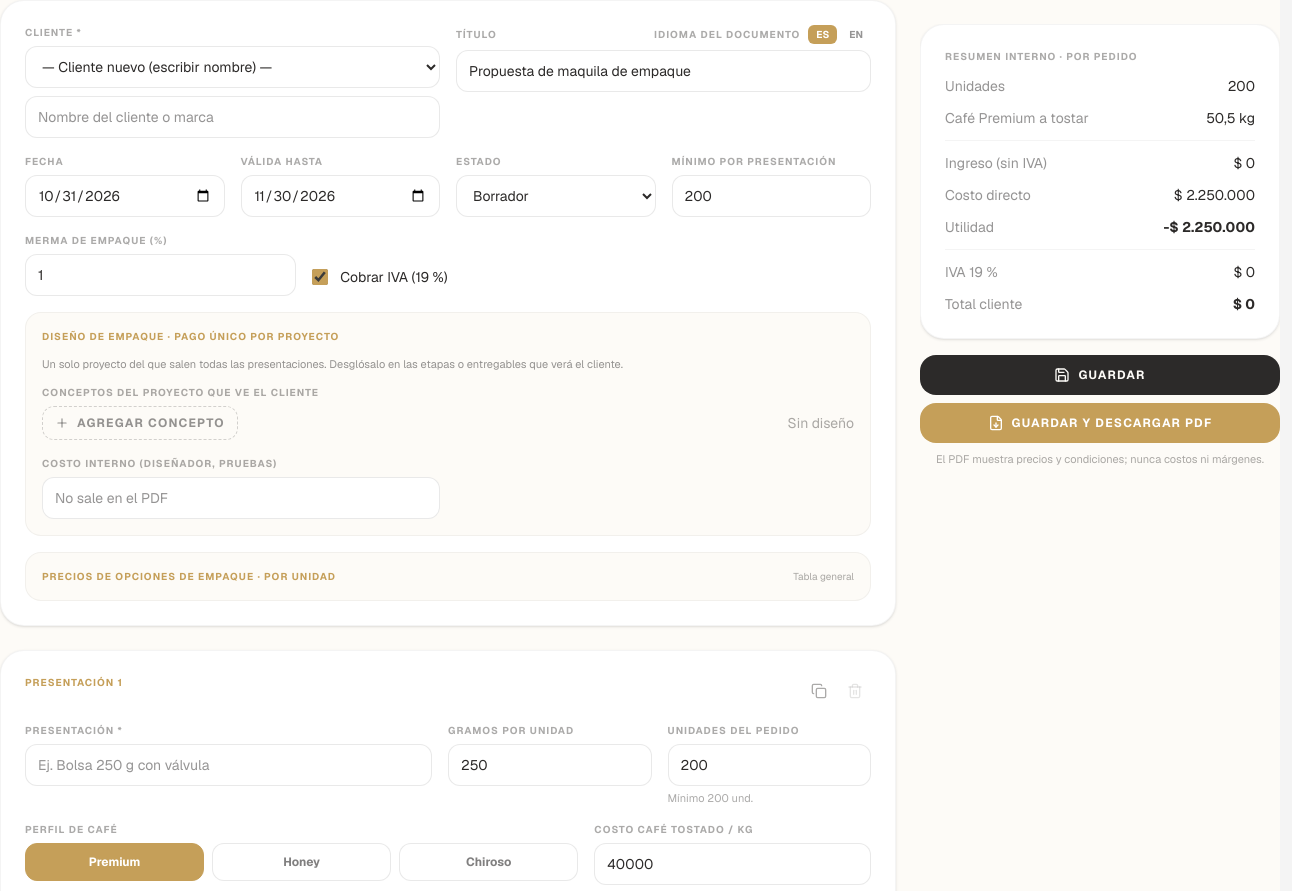
Test: MaquilaForm prices › design is itemized in concepts and the total is their sum
The image size is (1292, 891).
Click the button "Agregar concepto": [140, 422] box [42,406,238,440]
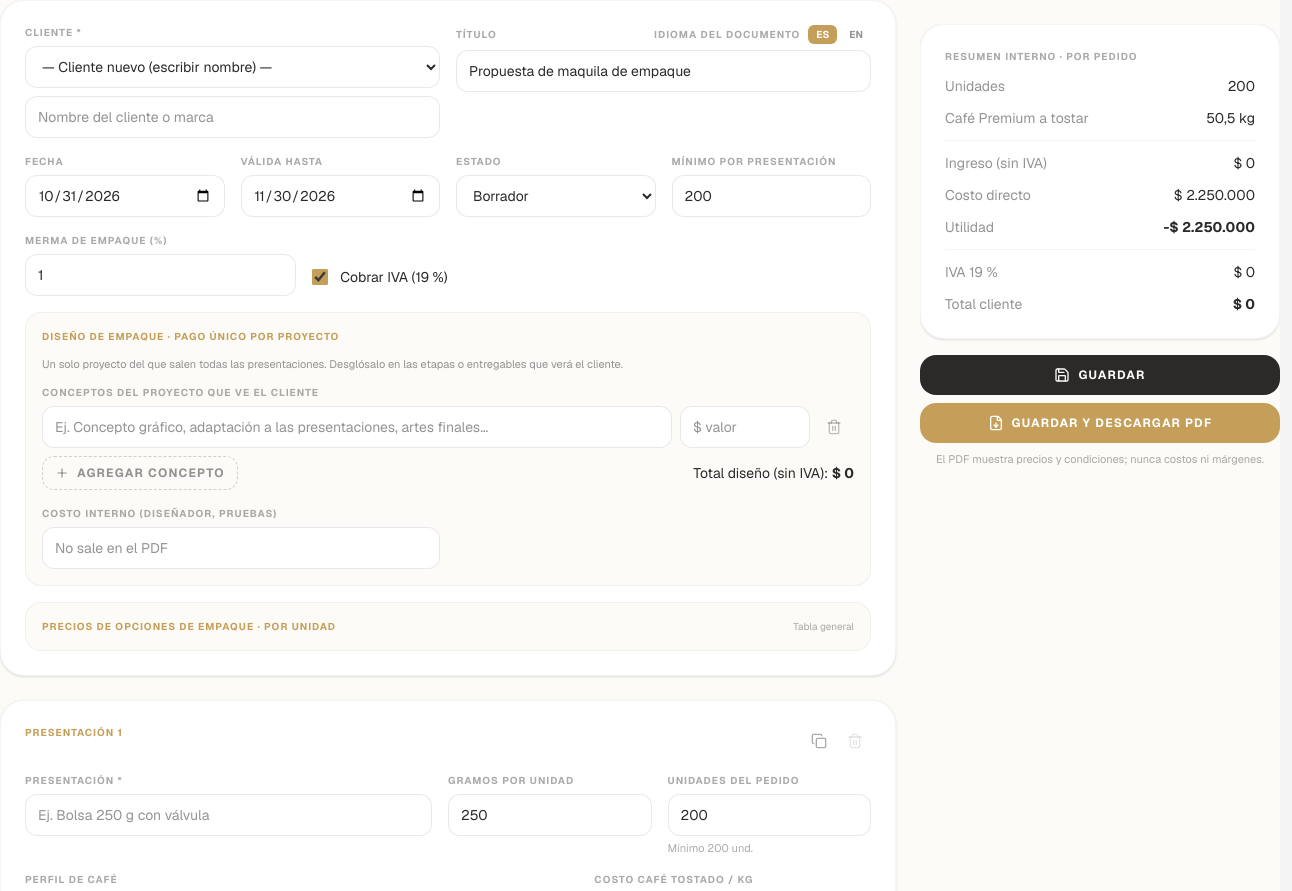
Click the button "Agregar concepto": [140, 472] box [42,456,238,490]
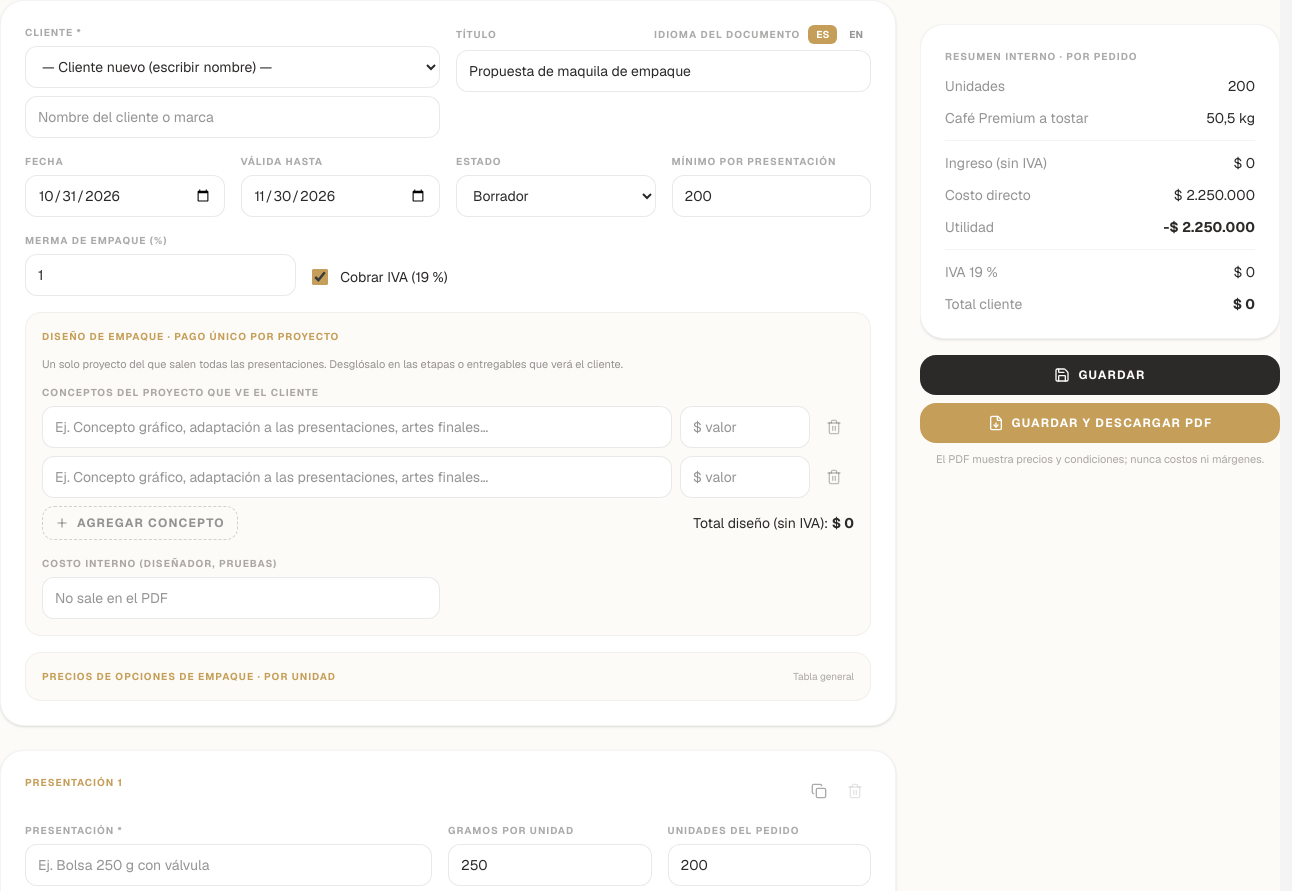
Replace the text in the field named "Concepto de diseño" with "Etiqueta 250 g": [357, 426] box [42,406,672,448]
In the field named "Valor de Etiqueta 250 g": [745, 426] box [680,406,810,448], type "700000"
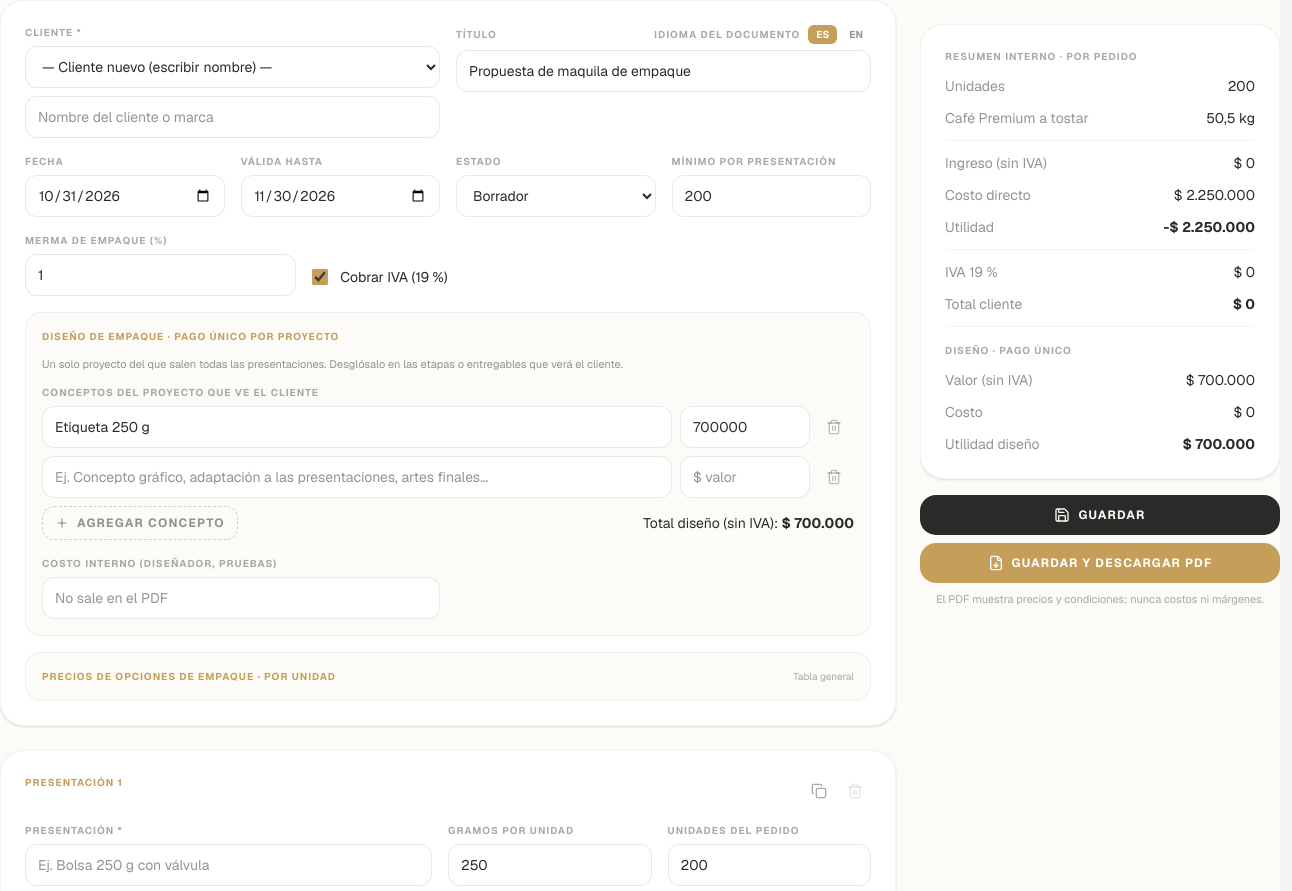
Replace the text in the field named "Concepto de diseño" with "Ajustes": [357, 476] box [42,456,672,498]
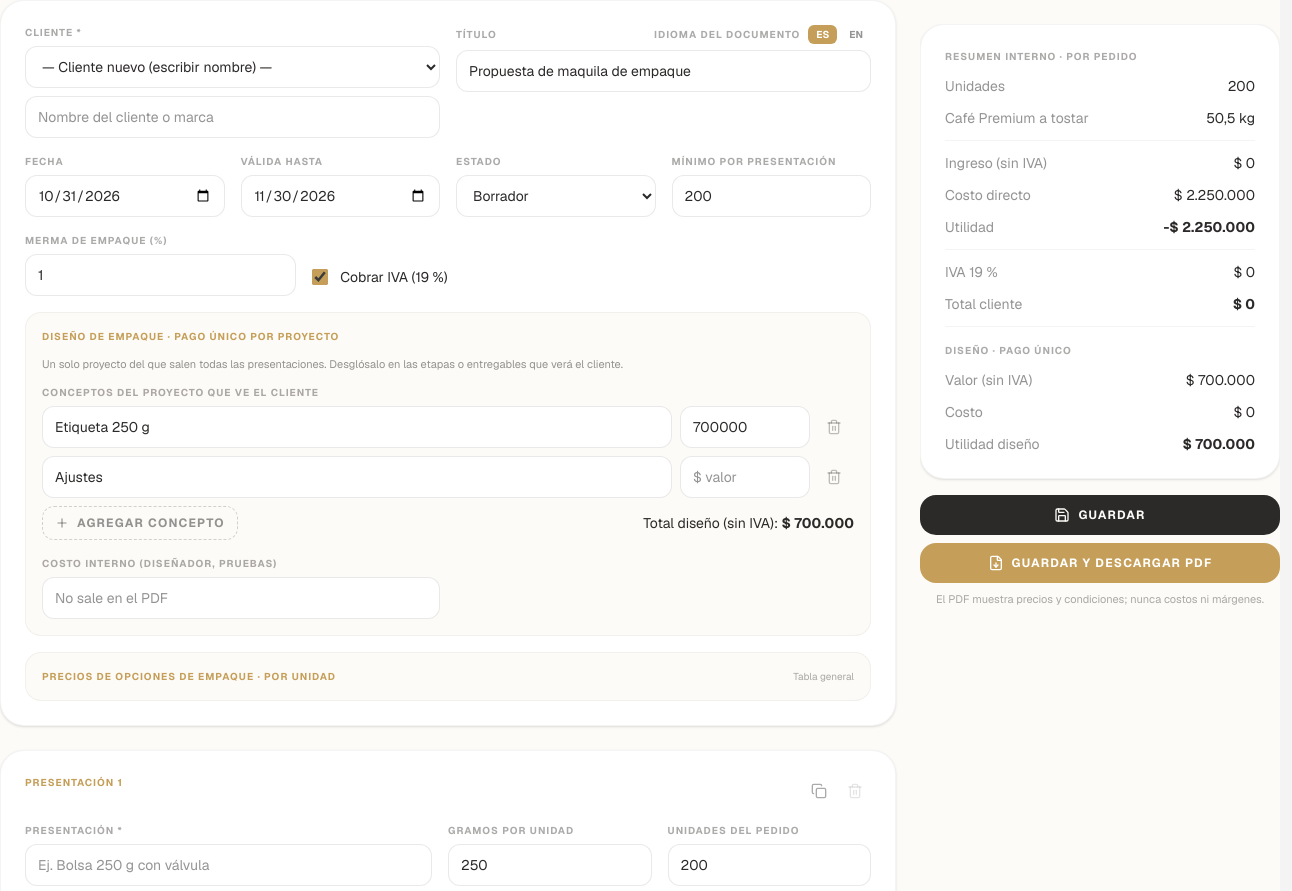
In the field named "Valor de Ajustes": [745, 476] box [680,456,810,498], type "100000"
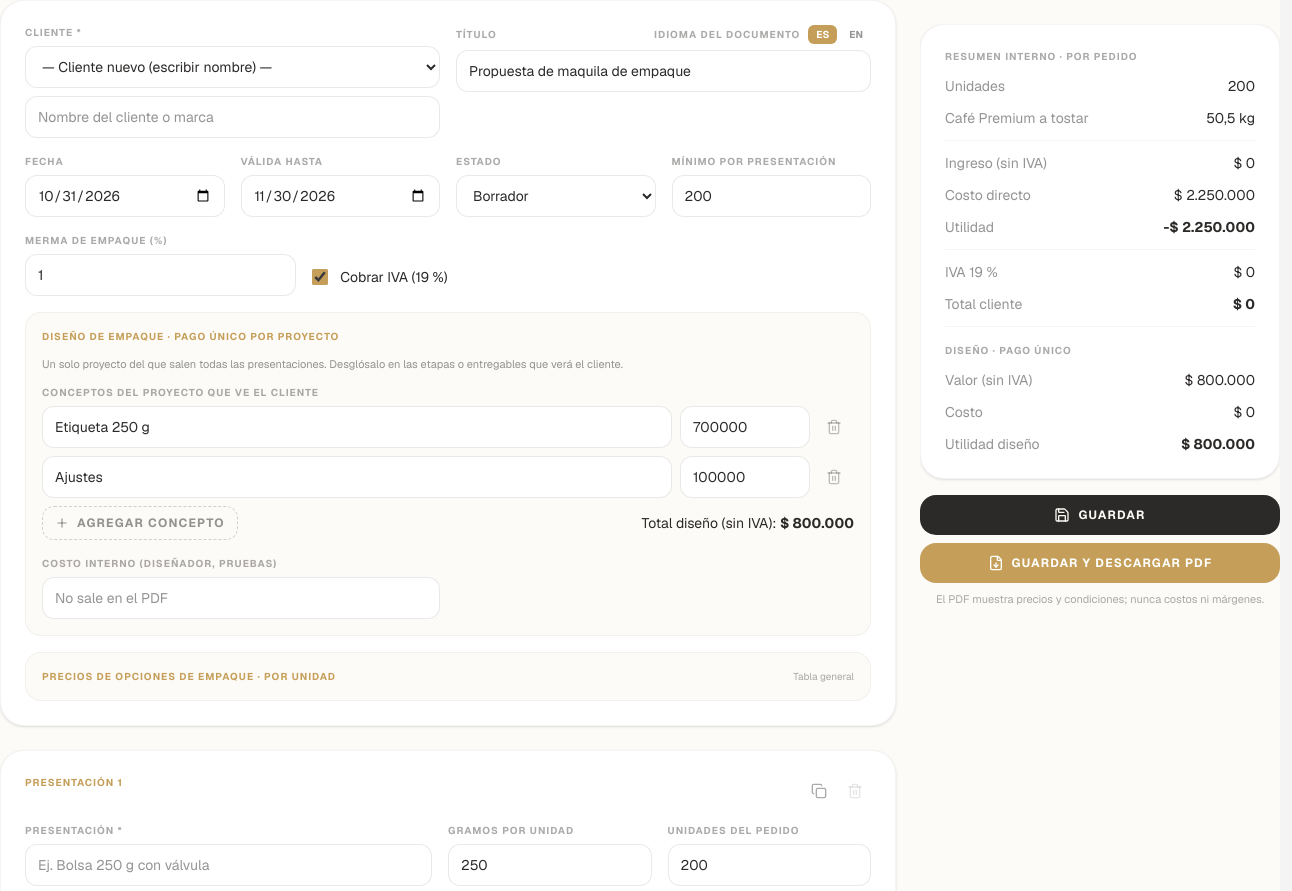
expect the text "Total diseño (sin IVA): $ 800.000" is shown: met, box [642,512,854,532]
Click the 2nd button named "Quitar concepto": [836, 476] box [818,460,854,492]
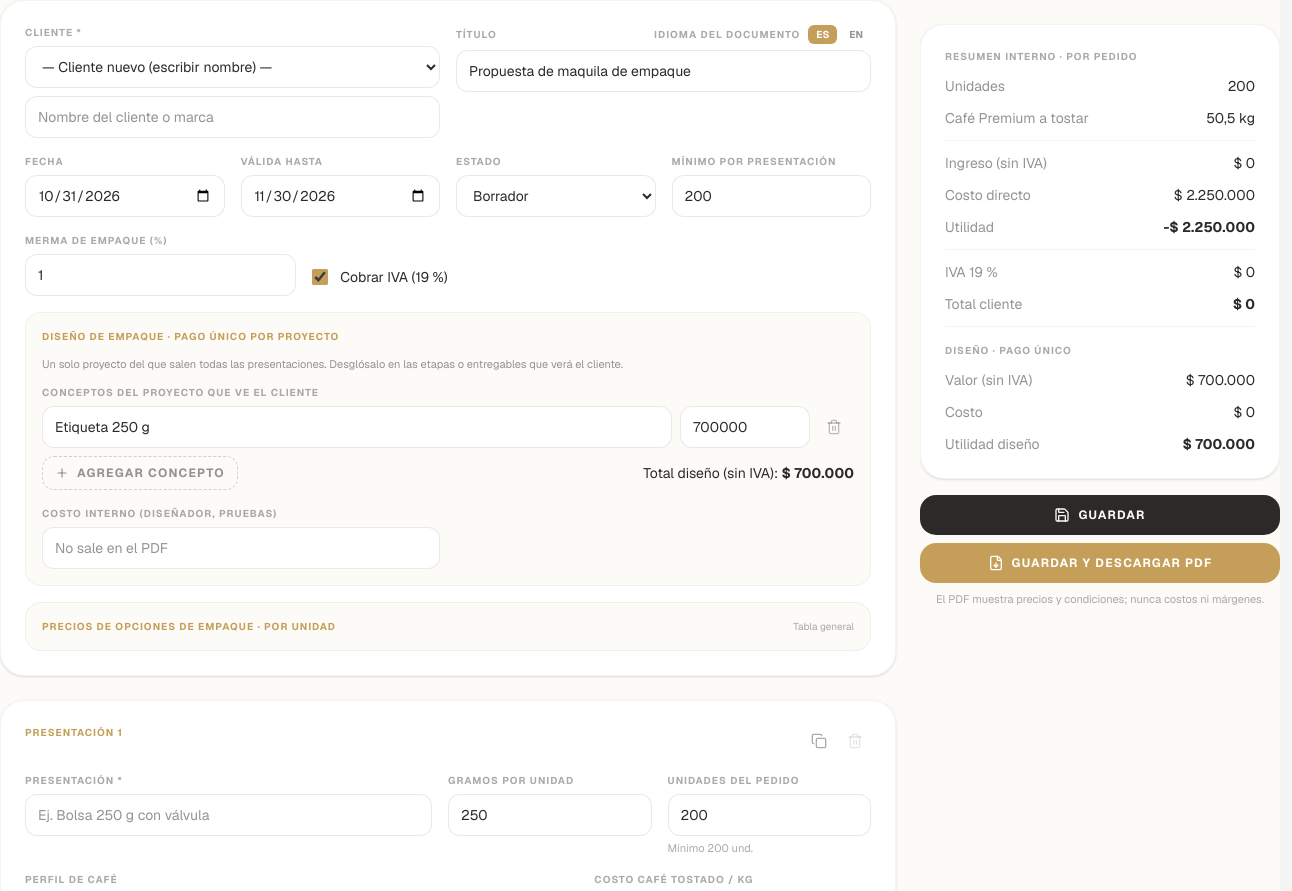
expect the text "Total diseño (sin IVA): $ 700.000" is shown: met, box [643,462,854,482]
